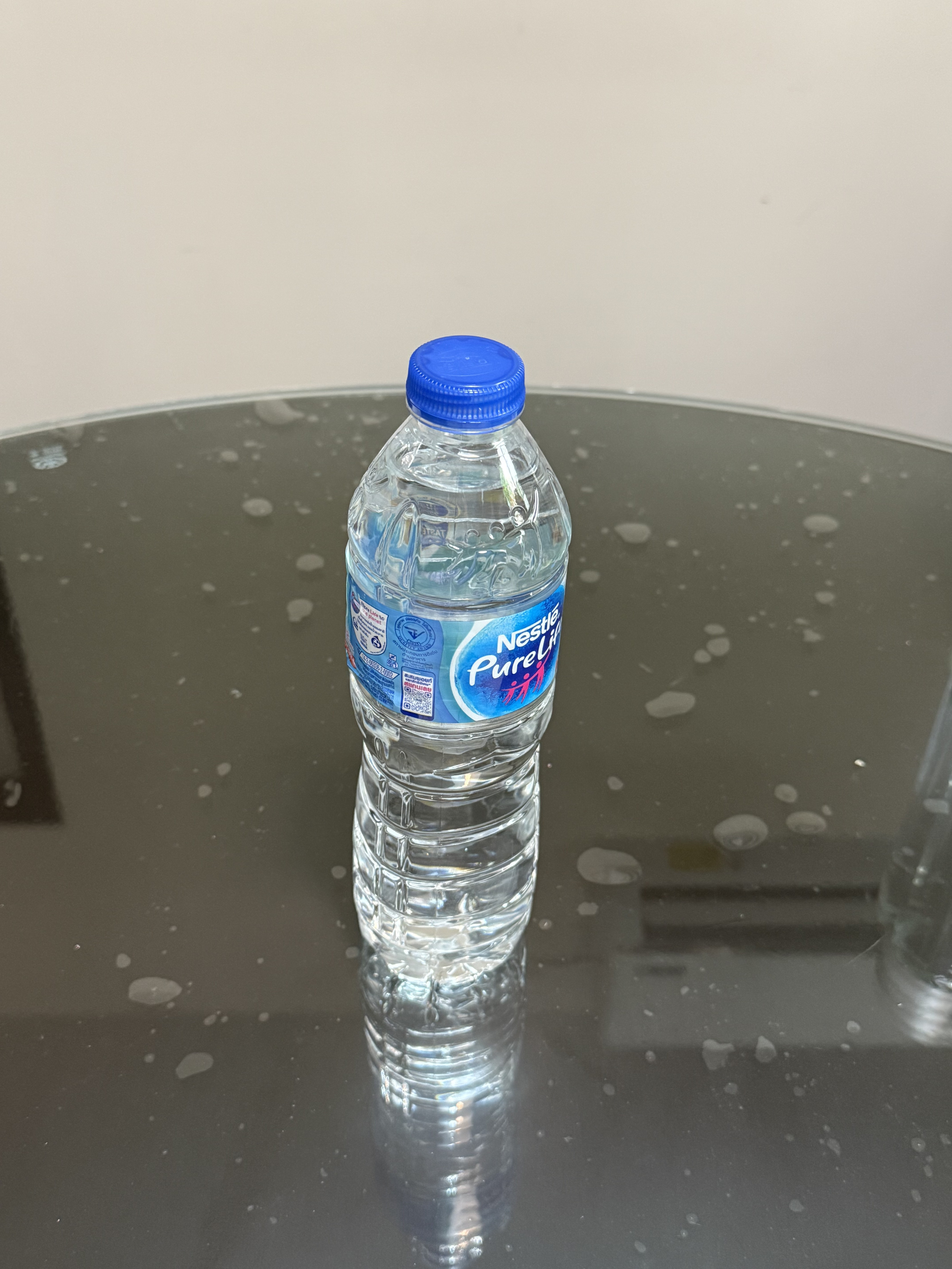closed_cap: (403, 332, 527, 432)
